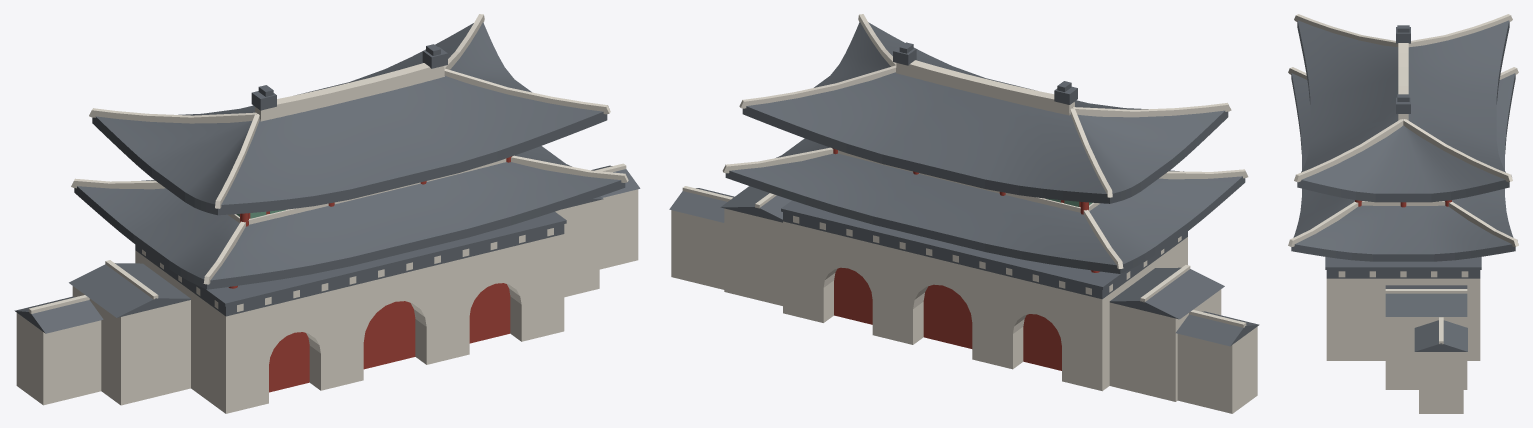
Rendered from seoul-gwanghwamun.glb.
The picture shows the model from 3 angles, left to right: view 1: azimuth 30°, elevation 25°; view 2: azimuth 150°, elevation 25°; view 3: azimuth 270°, elevation 25°; orthographic projection. The views are drawn at different scales.
Visible parts, largest first — view 1: Gwanghwamun; view 2: Gwanghwamun; view 3: Gwanghwamun.
Boxes of the visible parts, bbox=[...] form: Gwanghwamun: bbox=[14, 14, 640, 413]; Gwanghwamun: bbox=[669, 14, 1259, 413]; Gwanghwamun: bbox=[1288, 14, 1518, 413].
Bounding box in the file's own units: 49.2 × 21.45 × 19.55.
